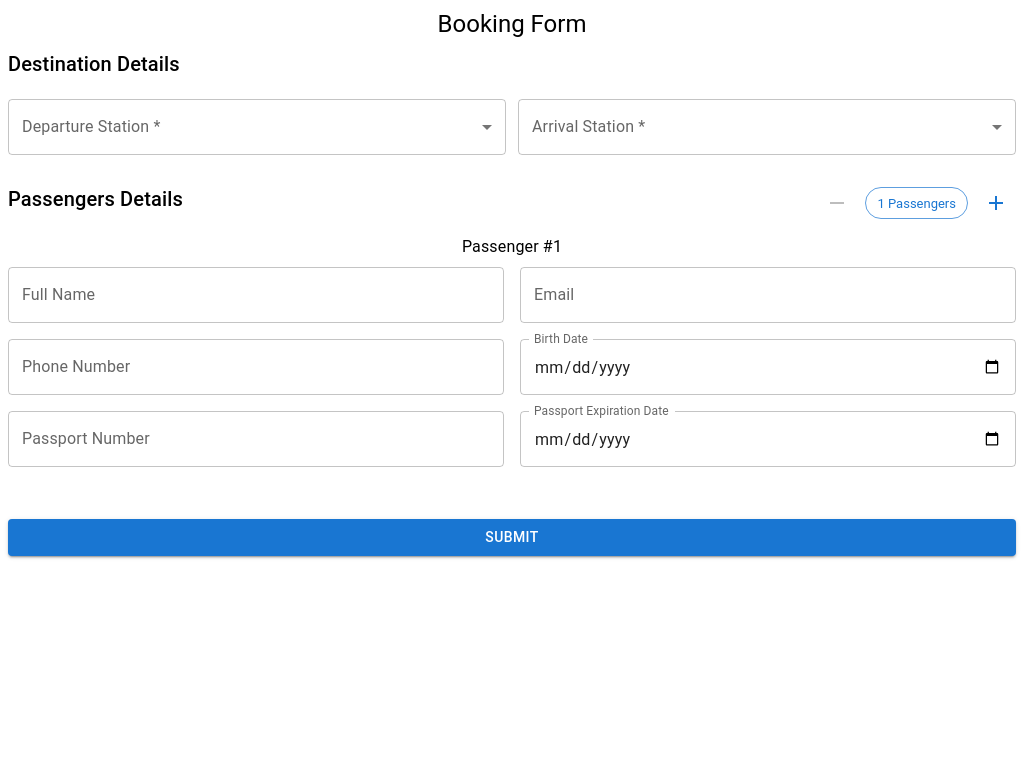
Test: BookingForm › shows validation errors for departure station
The image size is (1024, 768).
Click the button "Submit": (512,538) [8,519,1016,556]
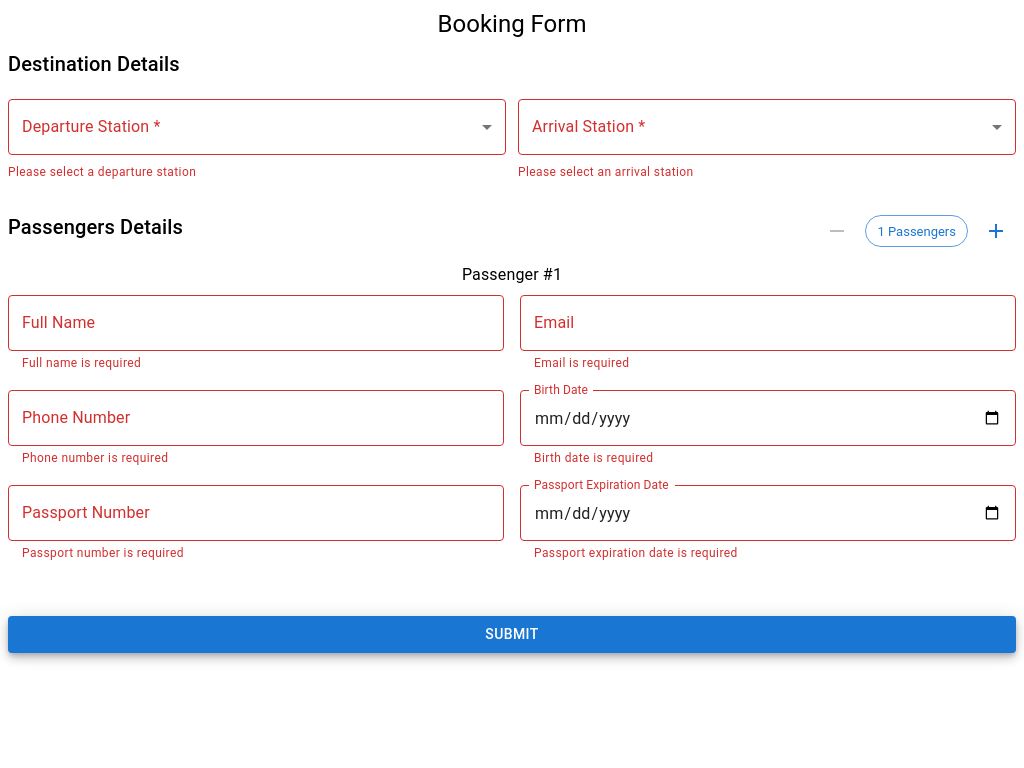
Now the text "Please select a departure station" is shown, box [8,165,196,179]
